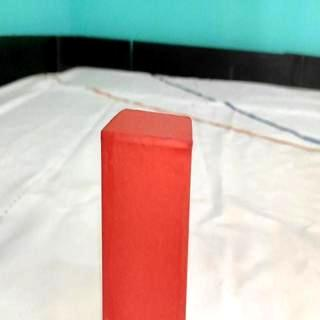redbox: (100, 107, 194, 320)
